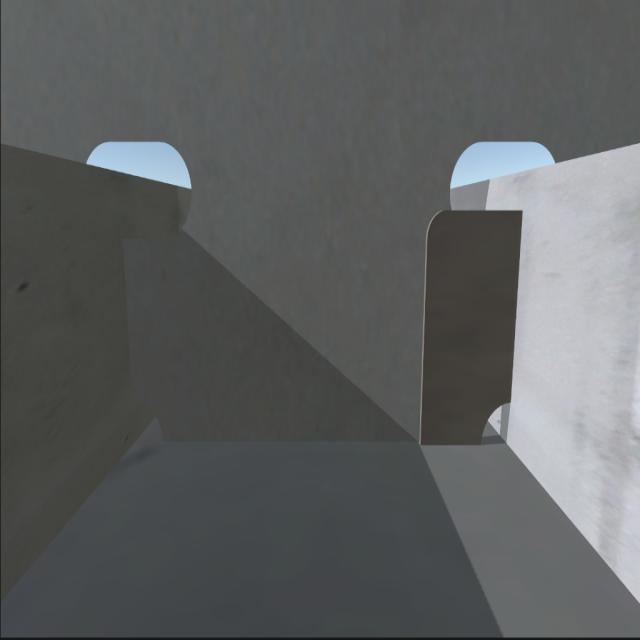fillet_hole: (133, 409, 166, 451), (480, 404, 512, 440)
fillet_yong_jeop_jang: (161, 433, 481, 450)
longi_yong_jeop_jang: (121, 240, 135, 411), (512, 211, 524, 405)
plate_CP05: (426, 204, 522, 436)
